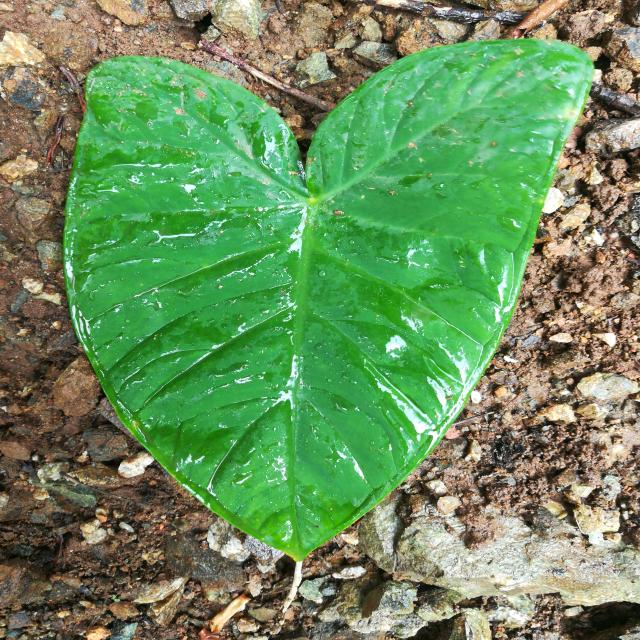taro: (63, 40, 592, 560)
